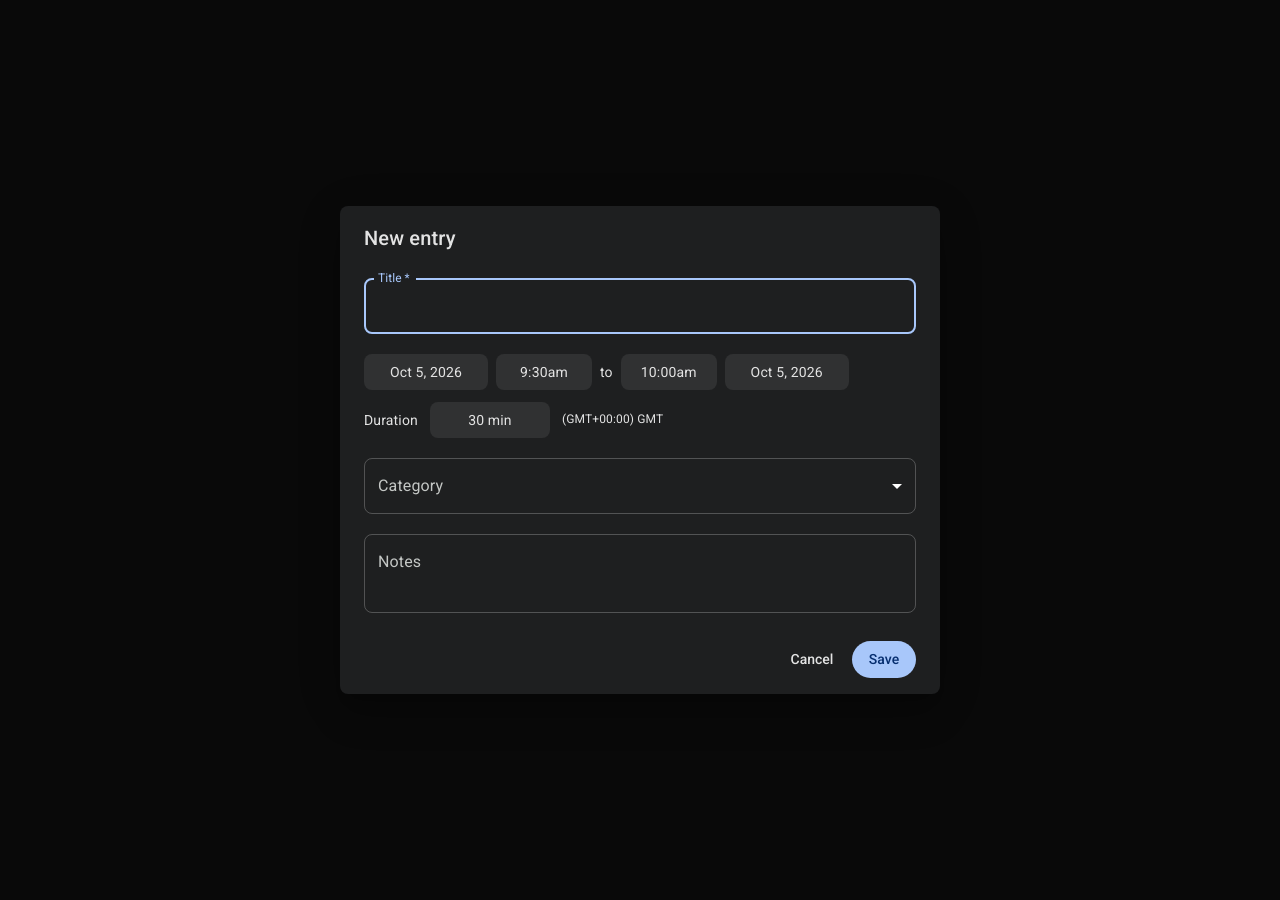
Test: EntryDialog › infers pm for an end time typed in the afternoon (DT-6)
Replace the text in the dropdown named "End time" with "11" at (669, 372), box [621, 354, 717, 390]
Then press Enter
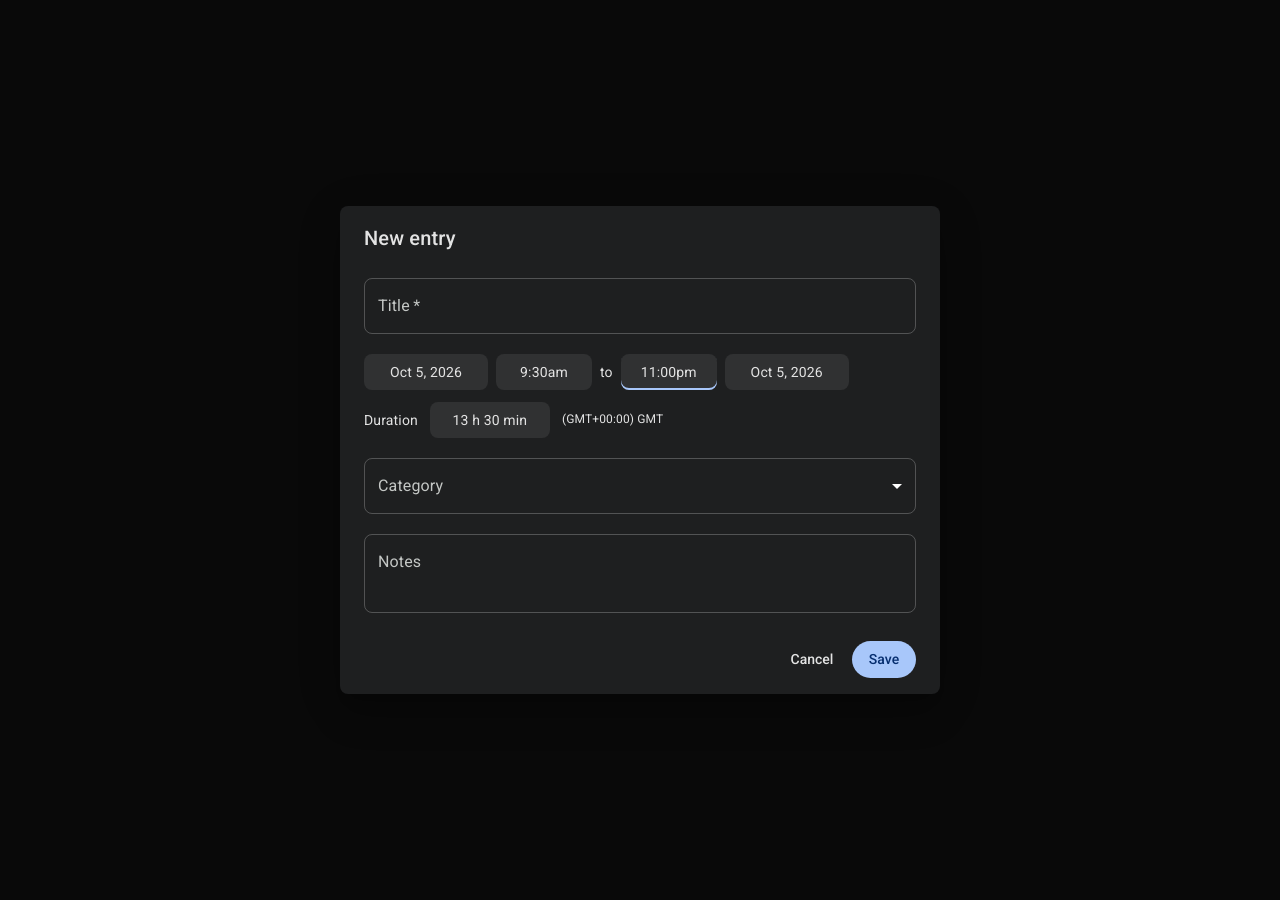
Expected: the dropdown named "End time" holds "11:00pm", [621, 354, 717, 390]
